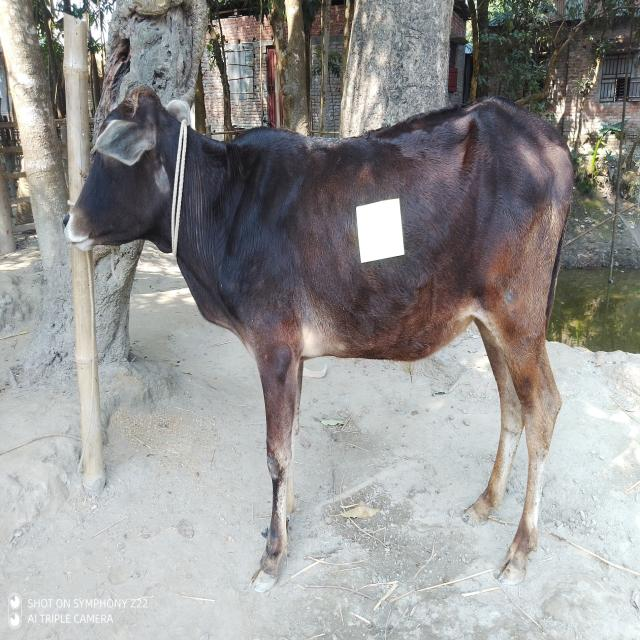badan_sapi: (248, 101, 560, 367)
sapi: (58, 61, 584, 595)
